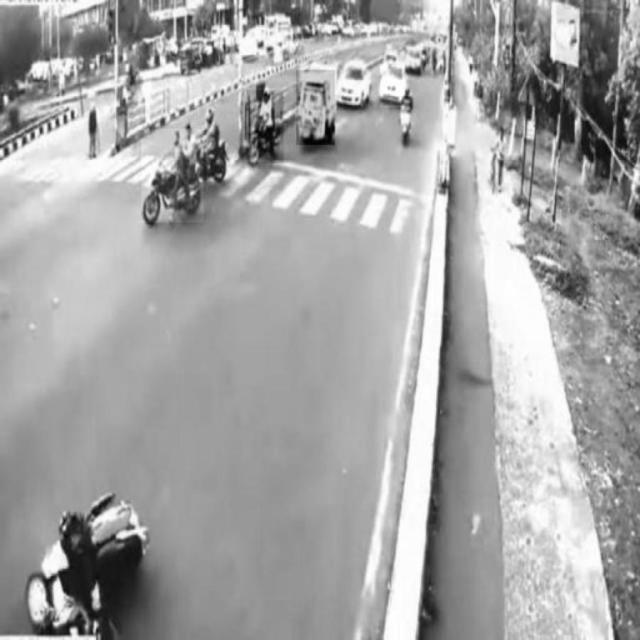vehicle: (142, 129, 204, 222), (296, 70, 334, 146), (247, 90, 284, 163), (337, 60, 373, 104), (380, 65, 406, 107)
